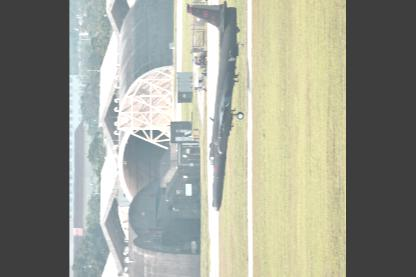Tu160: (186, 0, 245, 210)
